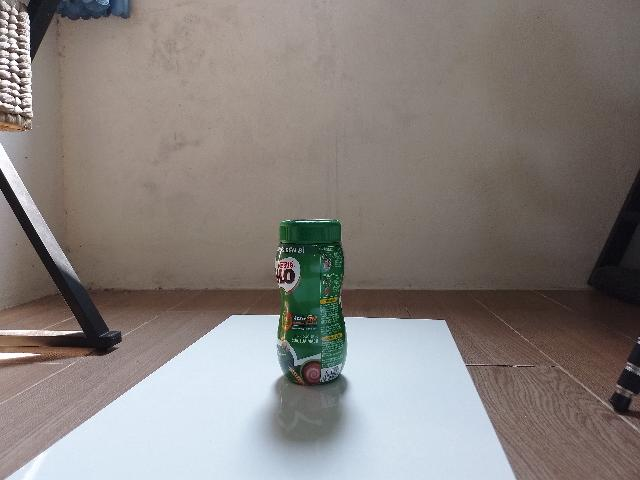milo: (274, 218, 348, 388)
